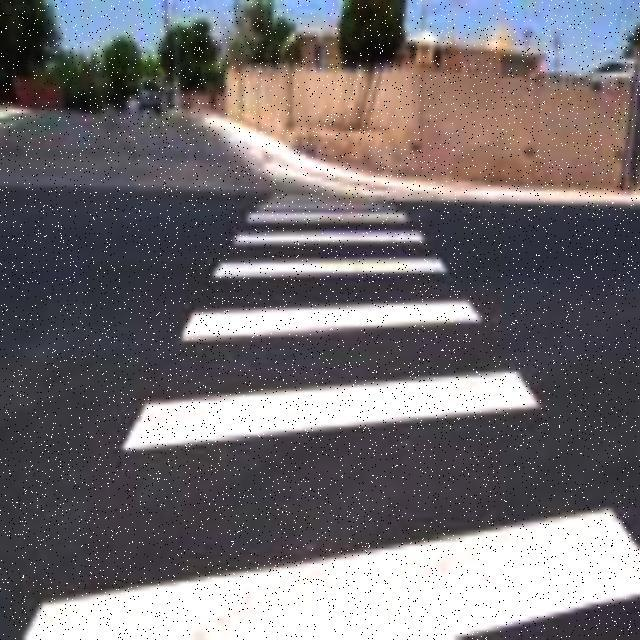crosswalk: (151, 191, 535, 454)
